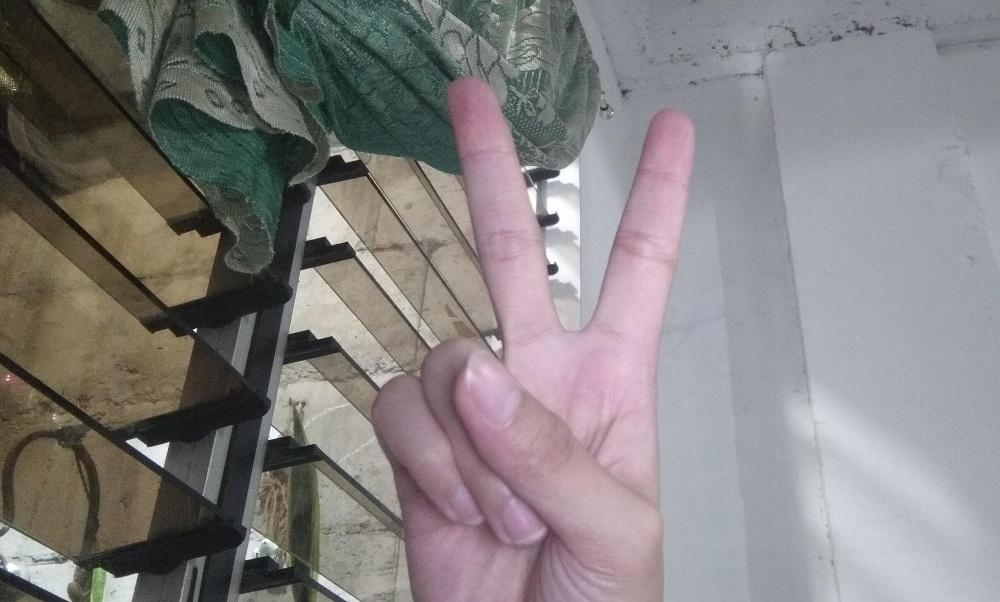v: (369, 74, 697, 602)
